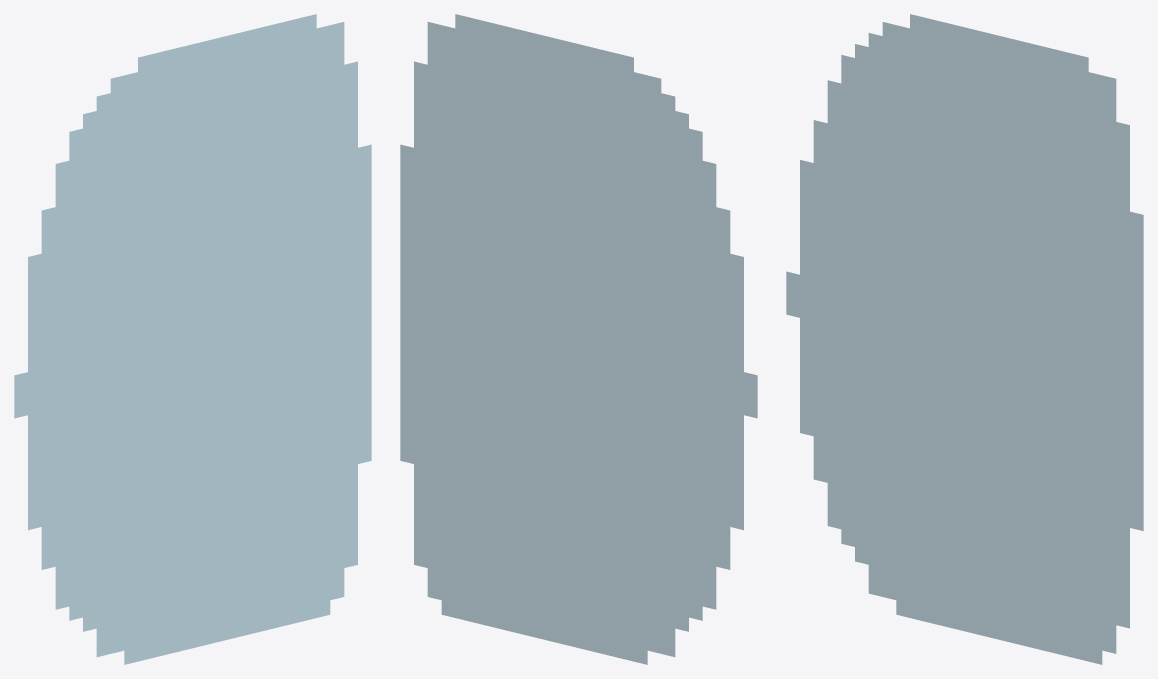
File: wp_water_187.obj
3 views of the same model, side by side, from view 1: azimuth 30°, elevation 25°; view 2: azimuth 150°, elevation 25°; view 3: azimuth 330°, elevation 25° (orthographic).
Size of the model in its own units: 0.39 by 0.63 by 0.
1 material, 1 textured.
